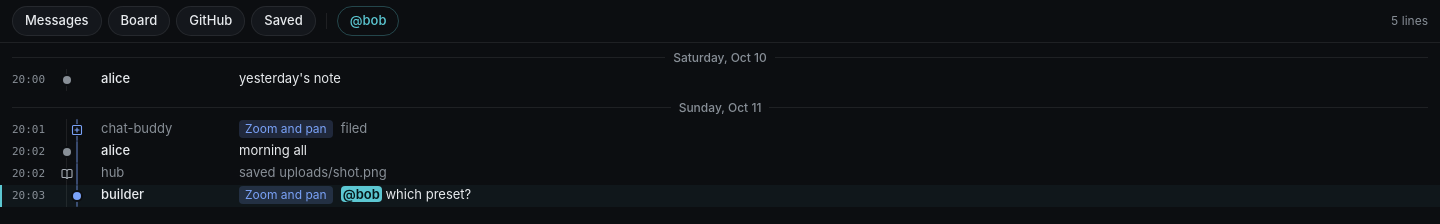
<RoomStream /> › filters to messages that mention you
This screenshot has width=1440, height=224.
Step 1. Click the button "@bob" → (368, 21), box left=337, top=6, right=400, bottom=36
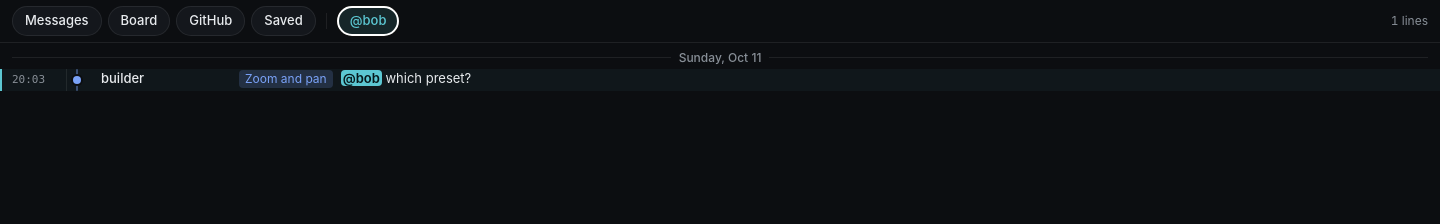
Check: the text "Zoom and pan @bob which preset?" is shown, box left=239, top=70, right=471, bottom=88
Check: the text "morning all" is gone
